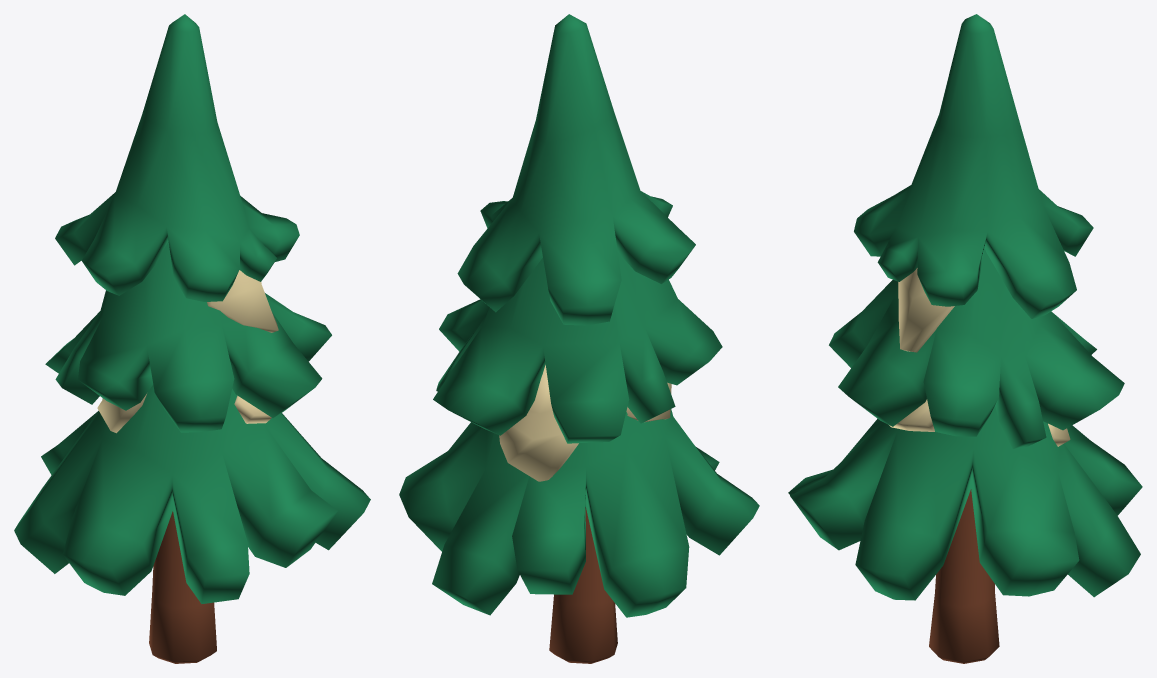
Rendered from tree4.fbx.
3 views of the same model, side by side, from view 1: azimuth 30°, elevation 25°; view 2: azimuth 150°, elevation 25°; view 3: azimuth 270°, elevation 25° (orthographic).
Visible parts, largest first — view 1: Plane.001; view 2: Plane.001; view 3: Plane.001.
Boxes of the visible parts, x1,y1,x2,y2 form: Plane.001: (14, 14, 370, 663); Plane.001: (399, 14, 759, 663); Plane.001: (788, 14, 1142, 663).
Bounding box in the file's own units: 46.49 × 95.64 × 47.9.
